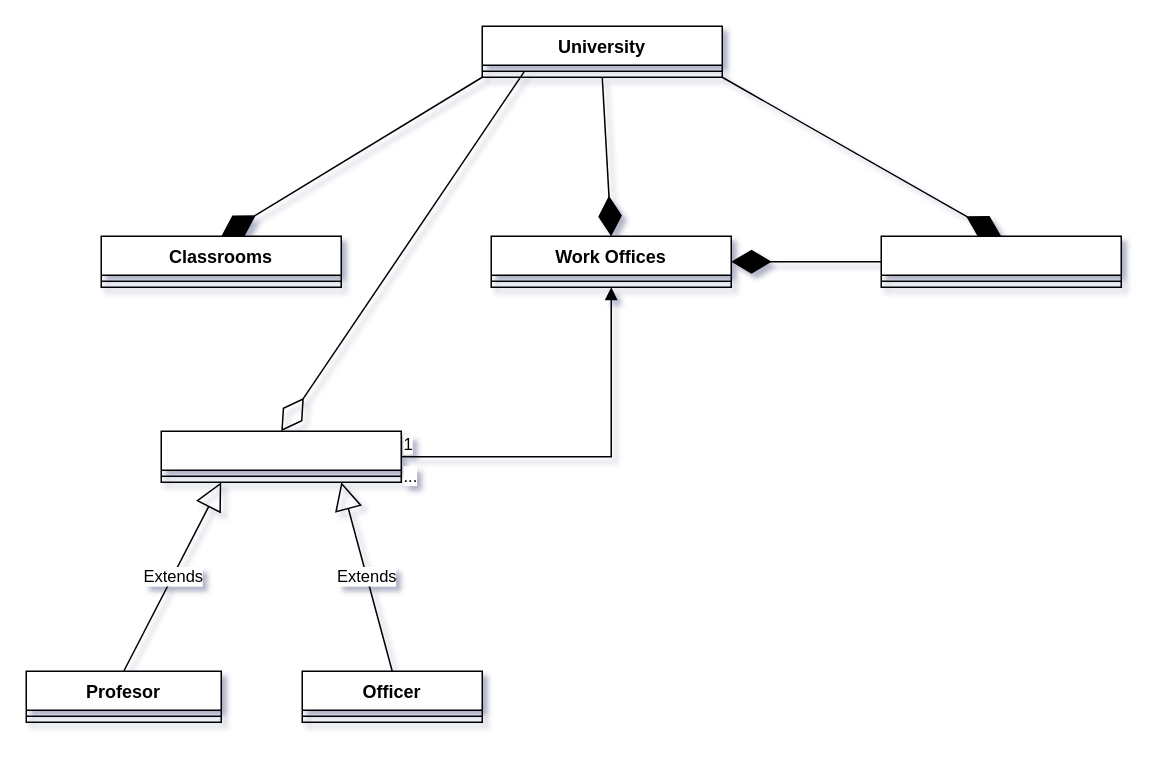
This 1157x758 diagram has some shape labels left out. The box of each missing label's shape, as (x1, y1, x2, y2) in pixels:
Department: (880, 235, 1121, 287)
Employees: (160, 430, 401, 482)
